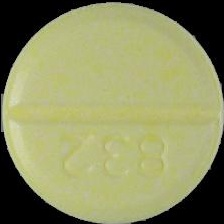63187-226: (0, 0, 224, 224)
